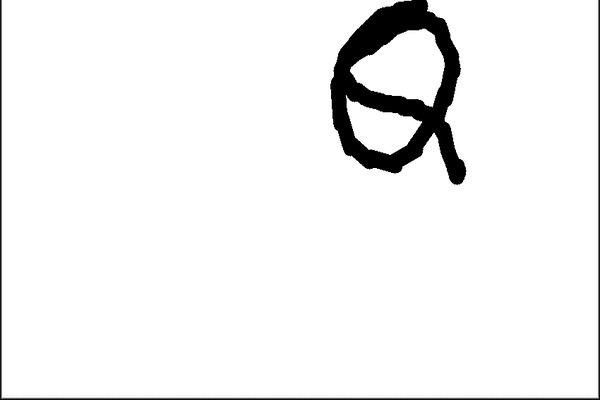Q: (317, 0, 473, 190)
